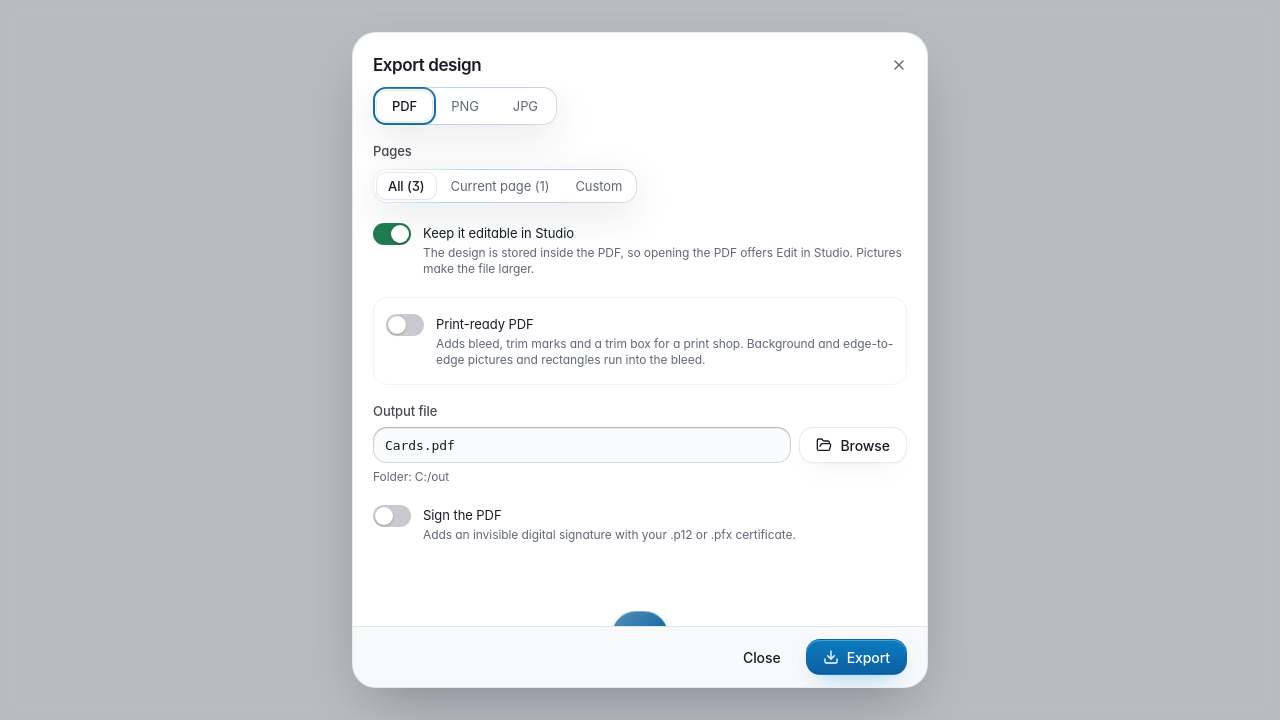
Test: ExportDialog › explains a wrong page range or resolution inline and blocks the export
The width and height of the screenshot is (1280, 720).
Click the radio button labelled "Custom" at [599, 186], box top-left (563, 172), bottom-right (634, 200)
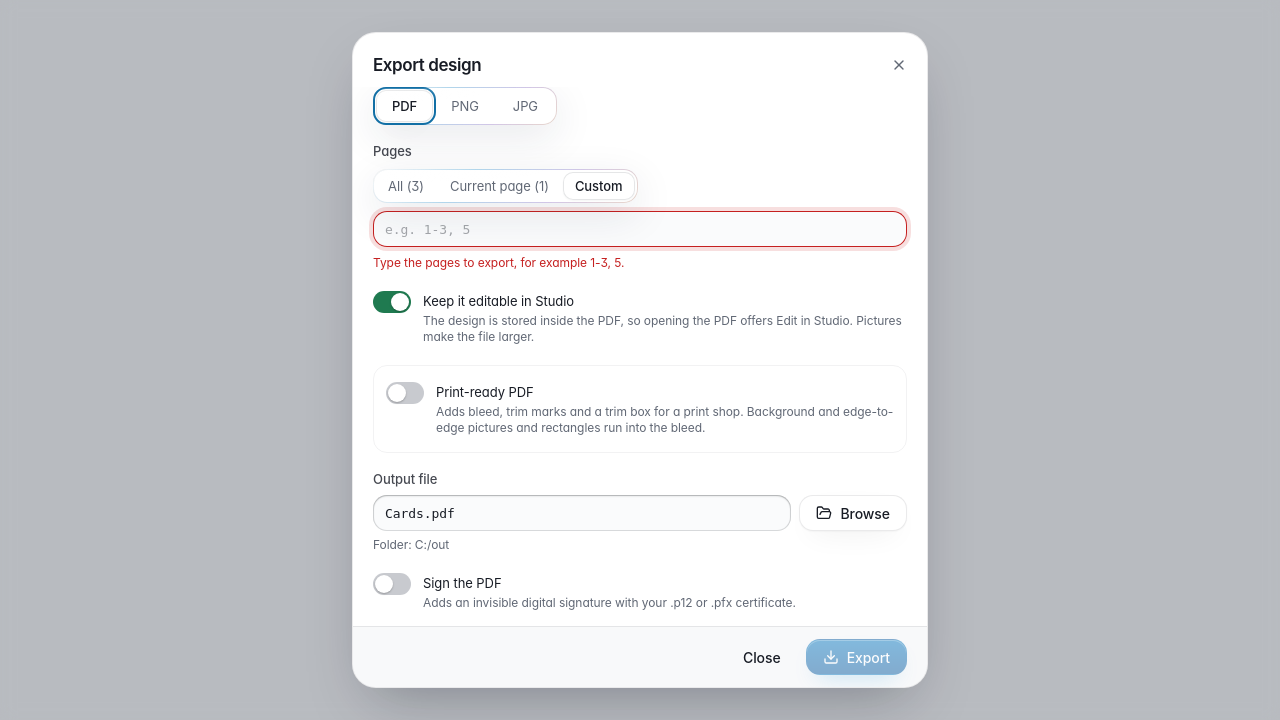
Type "1,,2" into the field with test id "studio-export-range" at [640, 229], box top-left (373, 211), bottom-right (907, 247)
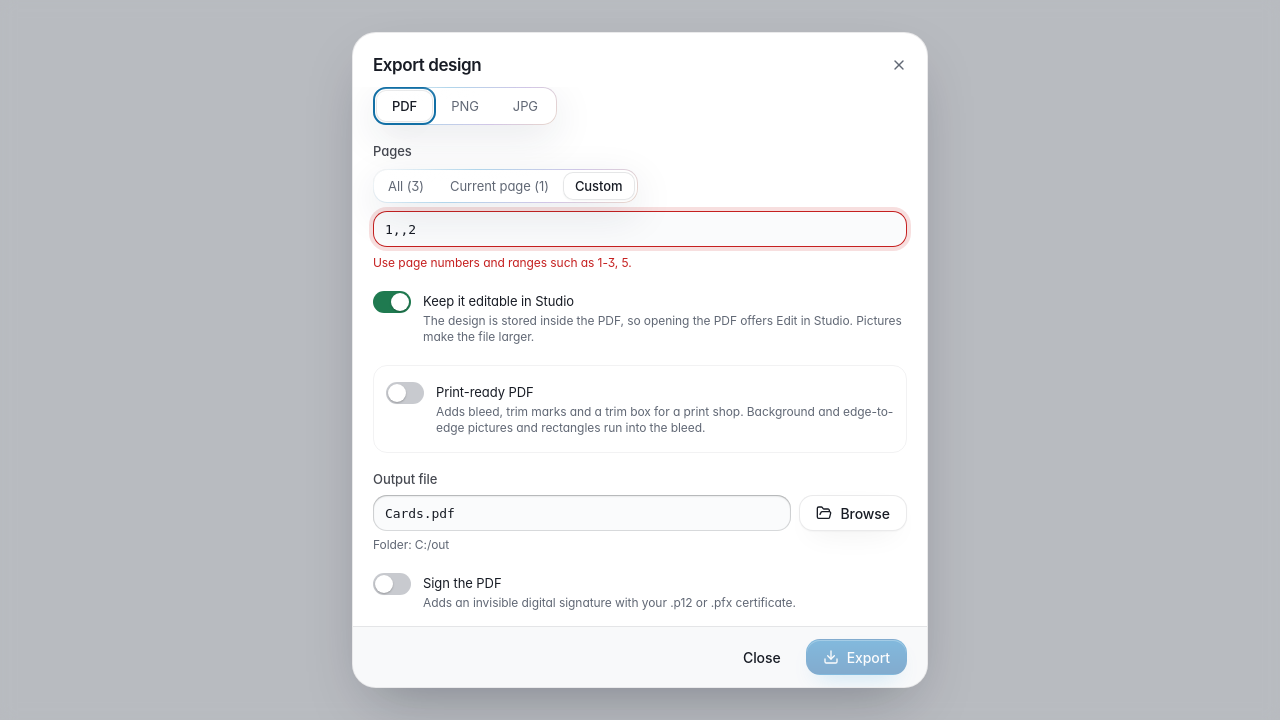
Now the button "Export" is disabled, box top-left (806, 639), bottom-right (907, 675)
Now the text "Use page numbers and ranges such as 1-3, 5." is shown, box top-left (373, 255), bottom-right (632, 270)
Replace the text in the field with test id "studio-export-range" with "1" at [640, 229], box top-left (373, 211), bottom-right (907, 247)
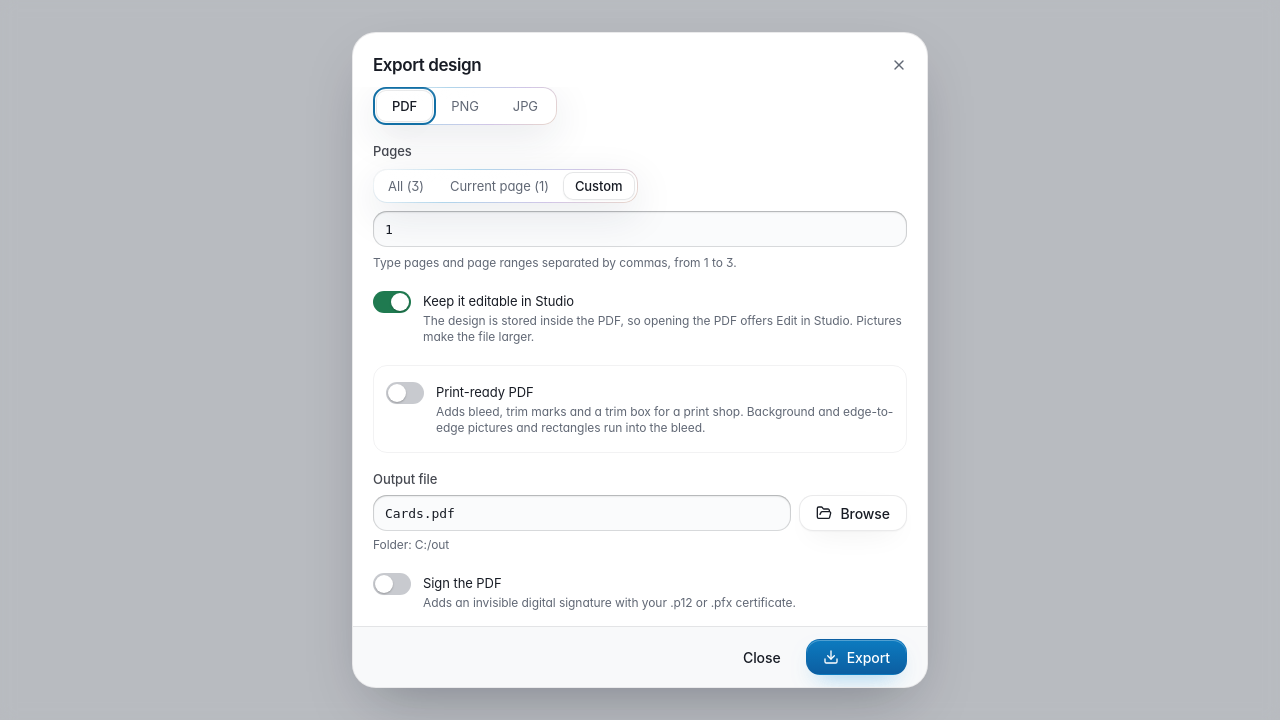
Click the radio button labelled "JPG" at [525, 106], box top-left (497, 90), bottom-right (554, 122)
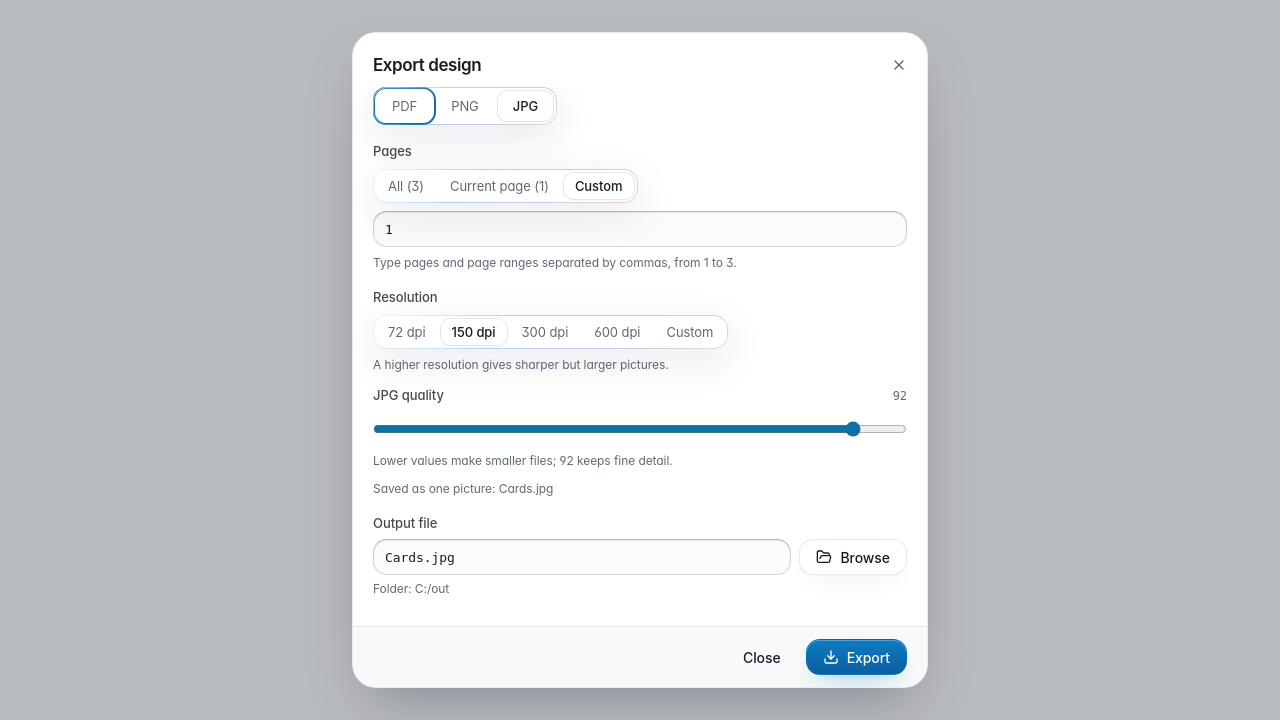
Click the 2nd radio button labelled "Custom" at [690, 332], box top-left (654, 318), bottom-right (725, 346)
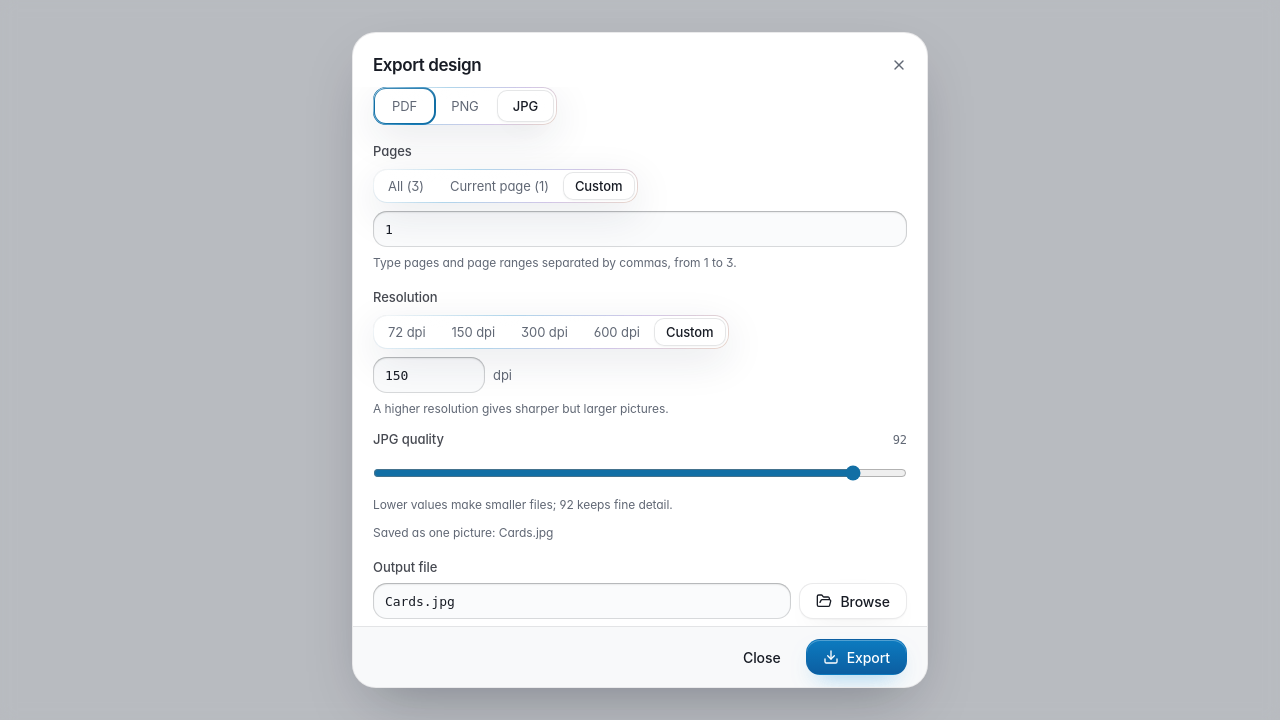
Replace the text in the number field with test id "studio-export-dpi" with "5000" at [429, 375], box top-left (373, 357), bottom-right (485, 393)
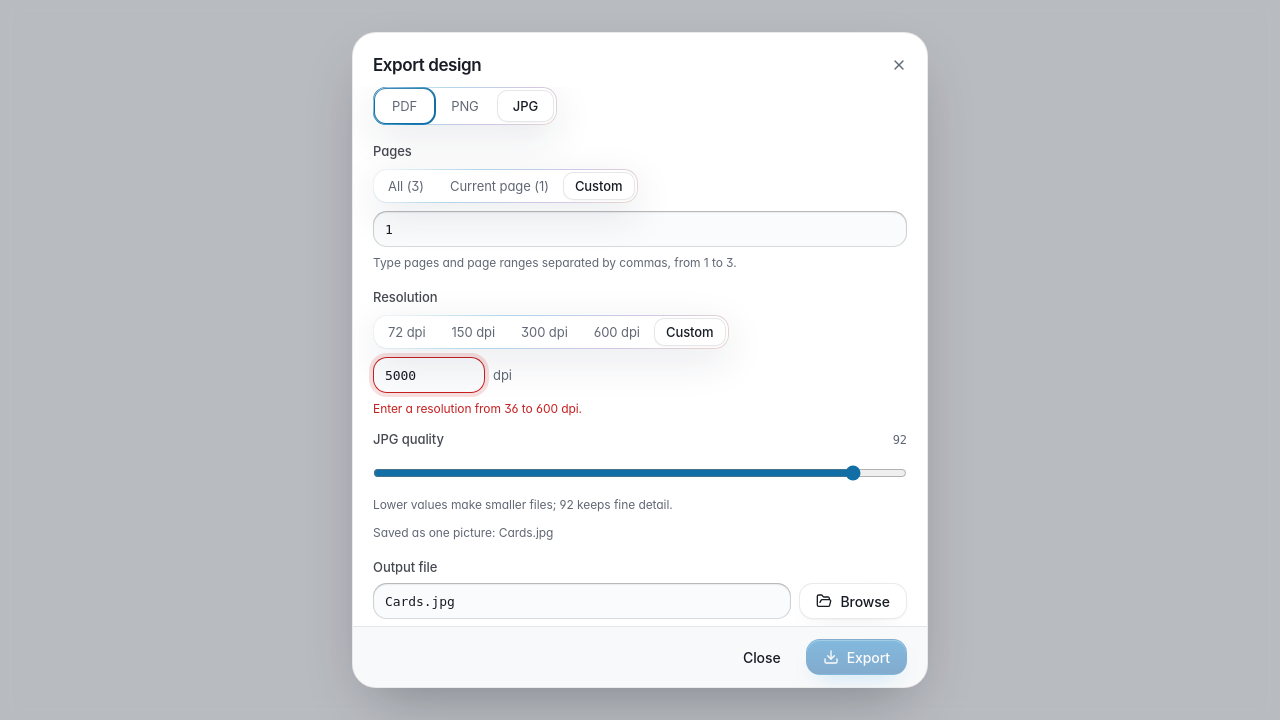
Now the text "Enter a resolution from 36 to 600 dpi." is shown, box top-left (373, 401), bottom-right (582, 416)
Now the button "Export" is disabled, box top-left (806, 639), bottom-right (907, 675)
